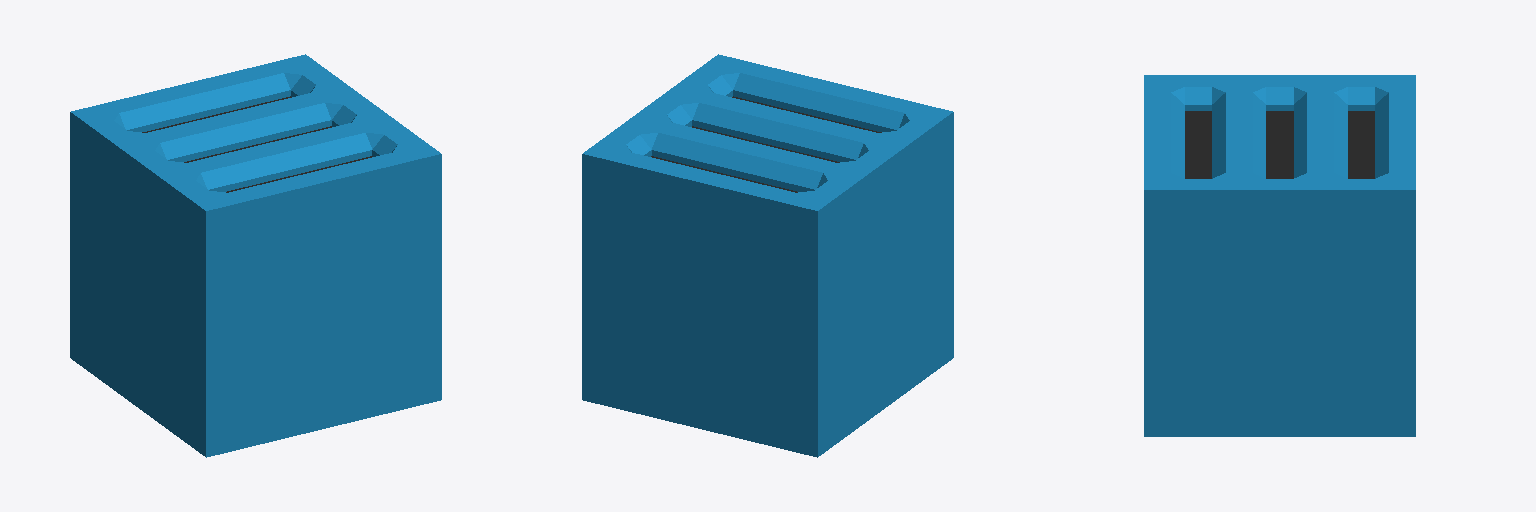
The model's file is Spacestation_Structure_Fuselage_Straight_Horizontal_Vented.obj.
3 renders of one model, left to right at view 1: azimuth 30°, elevation 25°; view 2: azimuth 150°, elevation 25°; view 3: azimuth 270°, elevation 25°, orthographic.
Visible parts, largest first — view 1: object2, object1; view 2: object2, object1; view 3: object2, object1.
Boxes of the visible parts, box(x1,y1,x2,y2) form: object2: box(70, 54, 441, 457); object1: box(142, 96, 372, 192); object2: box(582, 54, 953, 457); object1: box(651, 96, 881, 192); object2: box(1144, 75, 1415, 436); object1: box(1185, 111, 1374, 178).
Size of the model in its own units: 1 by 1 by 1.